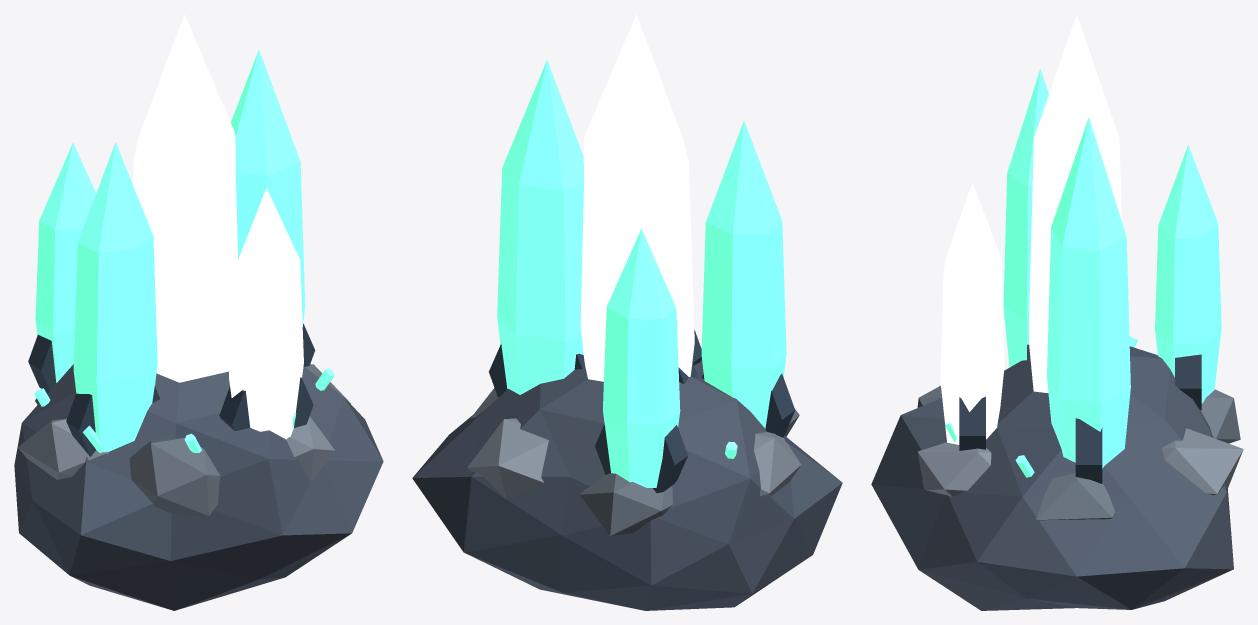
The model's file is ore_Duranium.glb.
The picture shows the model from 3 angles, left to right: view 1: azimuth 30°, elevation 25°; view 2: azimuth 150°, elevation 25°; view 3: azimuth 270°, elevation 25°; orthographic projection. The views are drawn at different scales.
Parts seen in each view (by area): view 1: root_fractured_asteroid, crystal_main_0, crystal_main_1, crystal_main_3, crystal_main_2, crystal_main_4, rock_armor_2, rock_armor_3, rock_armor_1, crystal_socket_3, crystal_socket_1, crystal_socket_4; view 2: root_fractured_asteroid, crystal_main_0, crystal_main_2, crystal_main_1, crystal_main_4, rock_armor_5, rock_armor_4, rock_armor_3, crystal_socket_4, crystal_socket_1, crystal_socket_2; view 3: root_fractured_asteroid, crystal_main_2, crystal_main_0, crystal_main_3, crystal_main_4, crystal_main_1, rock_armor_5, rock_armor_1, rock_armor_0, crystal_socket_2, rock_armor_4, crystal_socket_3 (+1 smaller).
Boxes of the visible parts, bbox=[...] form: root_fractured_asteroid: bbox=[14, 364, 383, 610]; crystal_main_0: bbox=[133, 14, 238, 382]; crystal_main_1: bbox=[73, 142, 157, 451]; crystal_main_3: bbox=[229, 188, 303, 439]; crystal_main_2: bbox=[230, 50, 305, 326]; crystal_main_4: bbox=[35, 143, 96, 382]; rock_armor_2: bbox=[129, 437, 220, 516]; rock_armor_3: bbox=[18, 418, 108, 479]; rock_armor_1: bbox=[286, 416, 335, 481]; crystal_socket_3: bbox=[219, 377, 313, 431]; crystal_socket_1: bbox=[66, 386, 160, 456]; crystal_socket_4: bbox=[28, 335, 56, 393]; root_fractured_asteroid: bbox=[412, 360, 842, 610]; crystal_main_0: bbox=[580, 14, 694, 381]; crystal_main_2: bbox=[497, 60, 583, 394]; crystal_main_1: bbox=[701, 121, 786, 428]; crystal_main_4: bbox=[603, 228, 680, 487]; rock_armor_5: bbox=[467, 418, 548, 499]; rock_armor_4: bbox=[580, 473, 672, 535]; rock_armor_3: bbox=[754, 432, 801, 496]; crystal_socket_4: bbox=[595, 424, 687, 493]; crystal_socket_1: bbox=[701, 373, 795, 437]; crystal_socket_2: bbox=[489, 344, 584, 397]; root_fractured_asteroid: bbox=[871, 346, 1233, 610]; crystal_main_2: bbox=[1047, 117, 1130, 468]; crystal_main_0: bbox=[1029, 14, 1121, 392]; crystal_main_3: bbox=[940, 182, 1004, 444]; crystal_main_4: bbox=[1155, 145, 1221, 403]; crystal_main_1: bbox=[1003, 69, 1048, 367]; rock_armor_5: bbox=[1161, 428, 1243, 495]; rock_armor_1: bbox=[917, 442, 991, 496]; rock_armor_0: bbox=[1010, 473, 1114, 520]; crystal_socket_2: bbox=[1075, 418, 1102, 483]; rock_armor_4: bbox=[1200, 389, 1240, 443]; crystal_socket_3: bbox=[959, 396, 985, 450].
Size of the model in its own units: 1.66 by 2.61 by 1.54.
